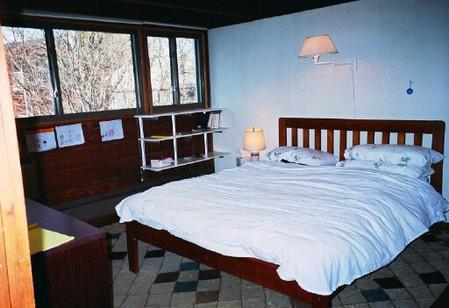Cama: (126, 113, 445, 307)
Ventana: (3, 26, 141, 113), (146, 34, 203, 109)
